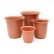plastic: (6, 15, 22, 39)
